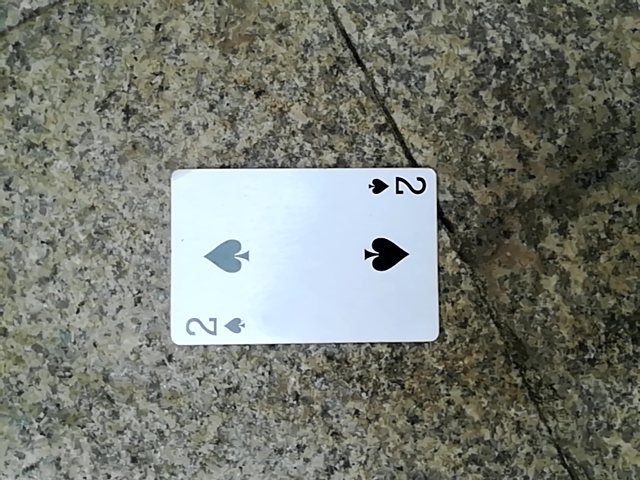ht 2: (163, 168, 437, 349)
